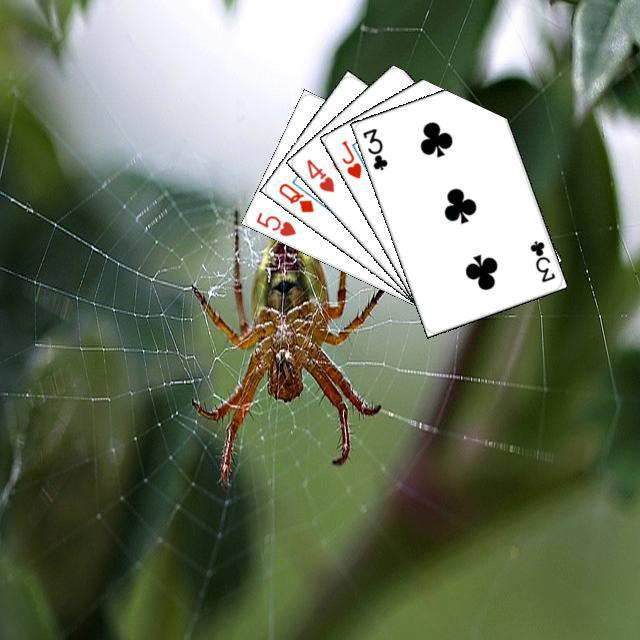3c: (357, 123, 389, 172), (525, 235, 557, 284)
4h: (301, 154, 336, 194)
5h: (251, 207, 298, 238)
Jh: (336, 135, 363, 181)
Qd: (273, 178, 316, 214)
